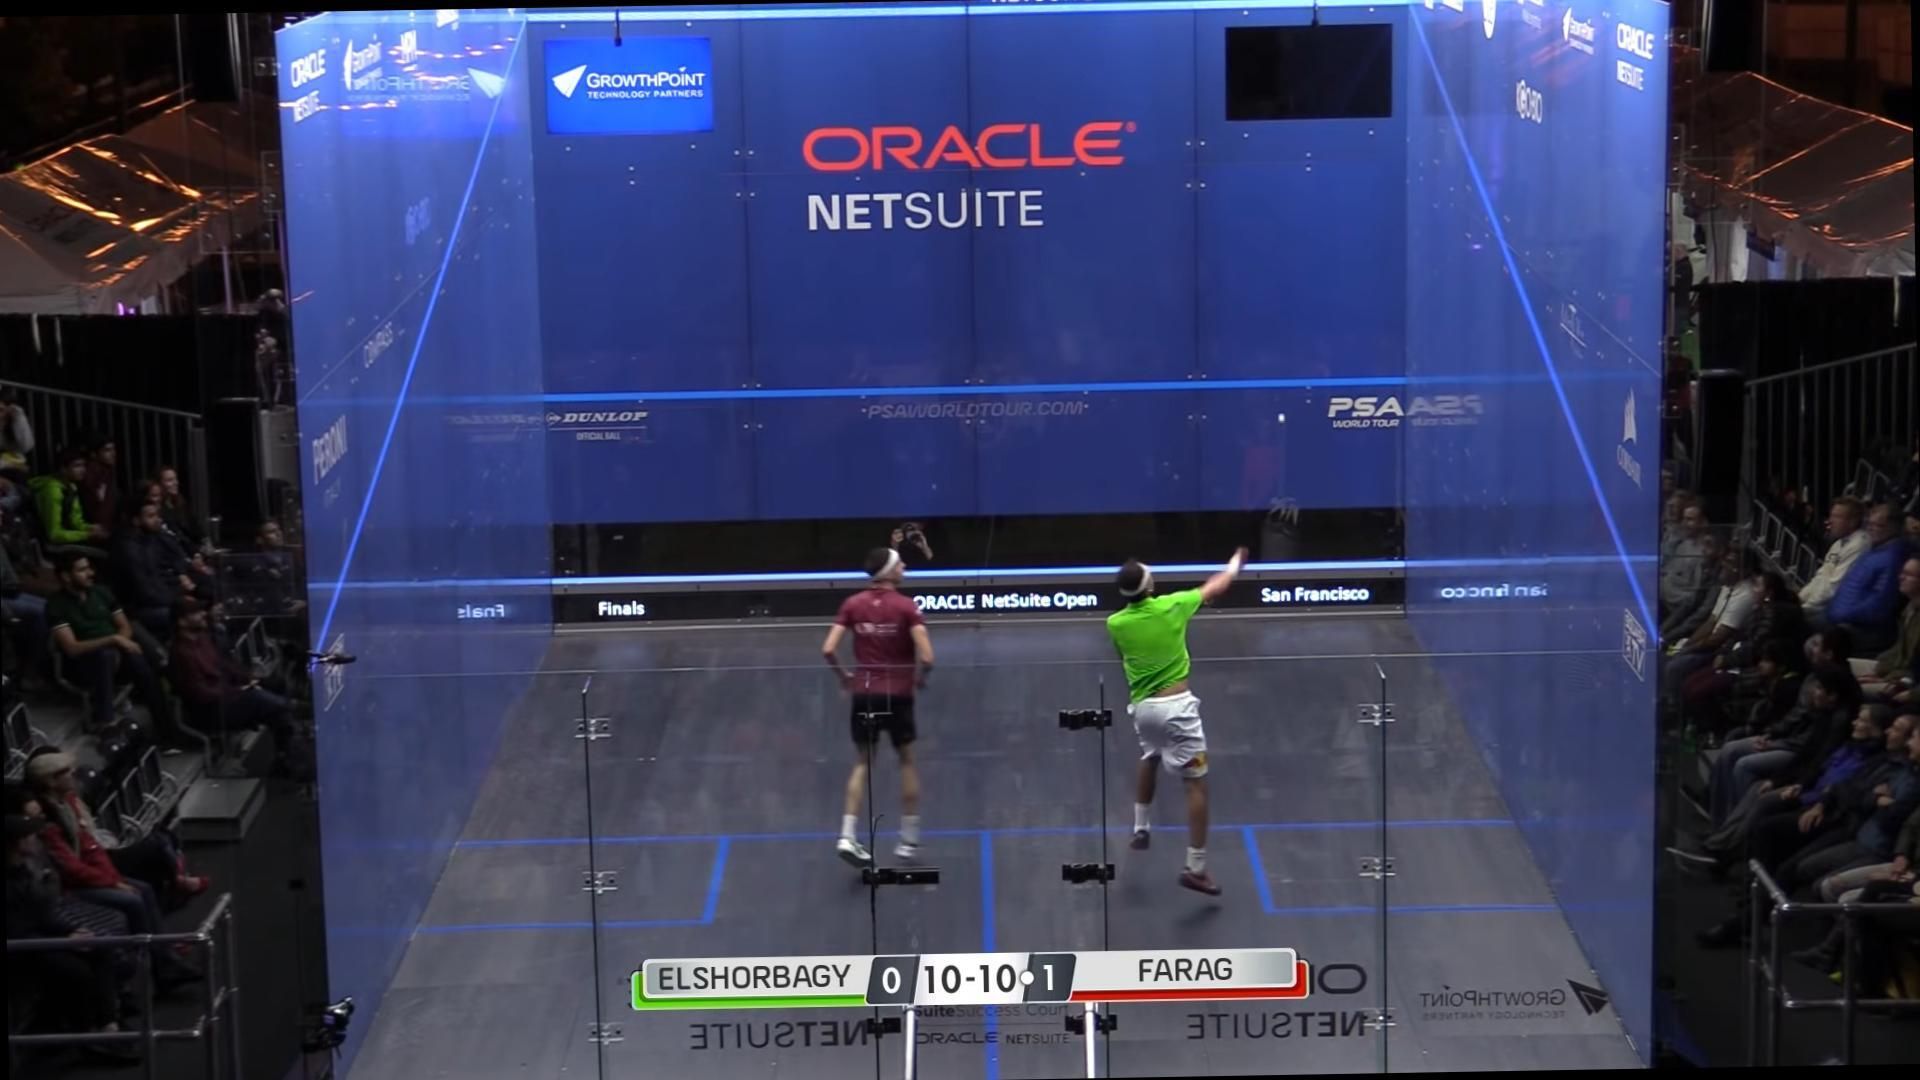Squash-Ball: (1261, 401, 1302, 435)
